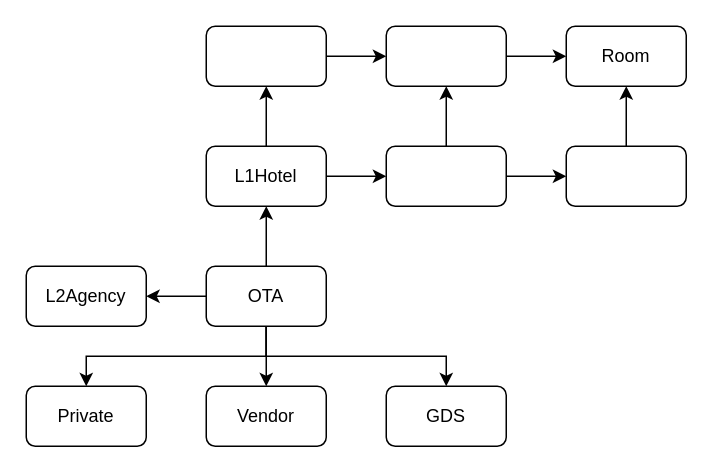
The diagram is 713 pixels wide and 473 high, and some of its shapes have lost their labels. The shapes that lost their labels are listed below. From the top down, each one's centre as x and y in pixels, then its label:
At [265,55]: "L1Room".
At [445,55]: "L2Room".
At [445,175]: "L2Hotel".
At [625,175]: "Hotel".
